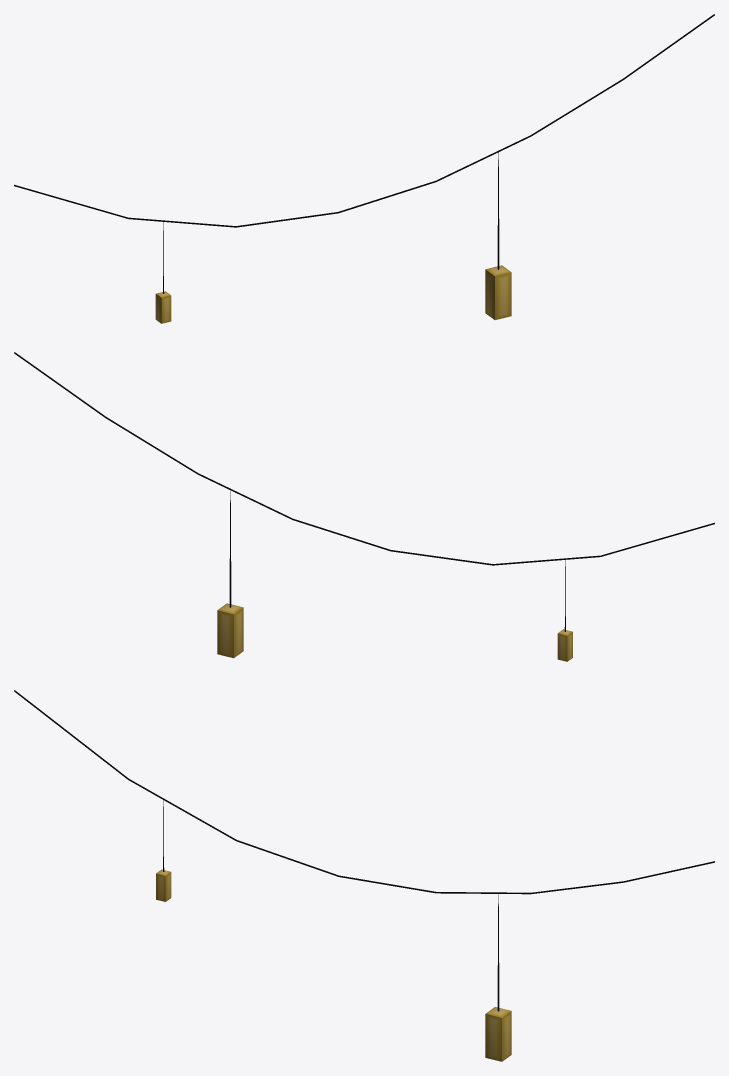
The model's file is Garland_A_2_QuadLamps_Yellow.fbx.
3 renders of one model, top to bottom at view 1: azimuth 30°, elevation 25°; view 2: azimuth 150°, elevation 25°; view 3: azimuth 330°, elevation 25°, orthographic.
Visible parts, largest first — view 1: Garland_A_2_QuadLamps_Yellow; view 2: Garland_A_2_QuadLamps_Yellow; view 3: Garland_A_2_QuadLamps_Yellow.
Part boxes in pixels (x1,y1,x2,y2): Garland_A_2_QuadLamps_Yellow: (14,14,714,323); Garland_A_2_QuadLamps_Yellow: (14,352,714,661); Garland_A_2_QuadLamps_Yellow: (14,690,714,1061).
Size of the model in its own units: 673 by 229 by 18.51.
